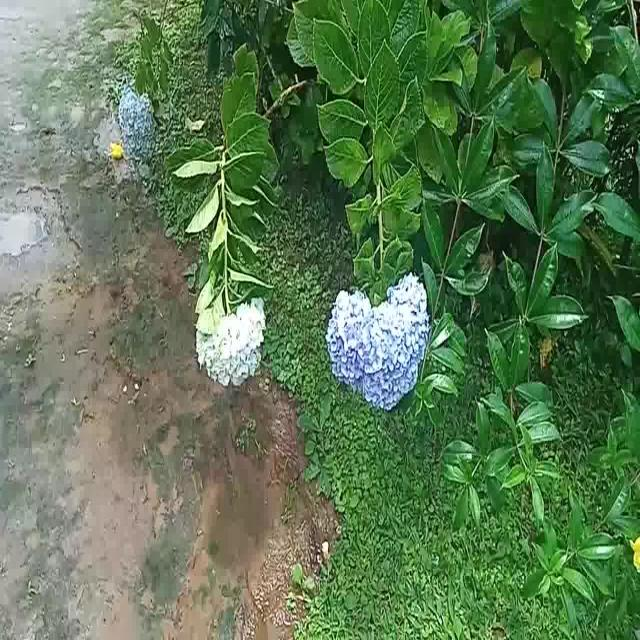Flower: (327, 281, 429, 412), (199, 299, 266, 401), (116, 84, 160, 168)
